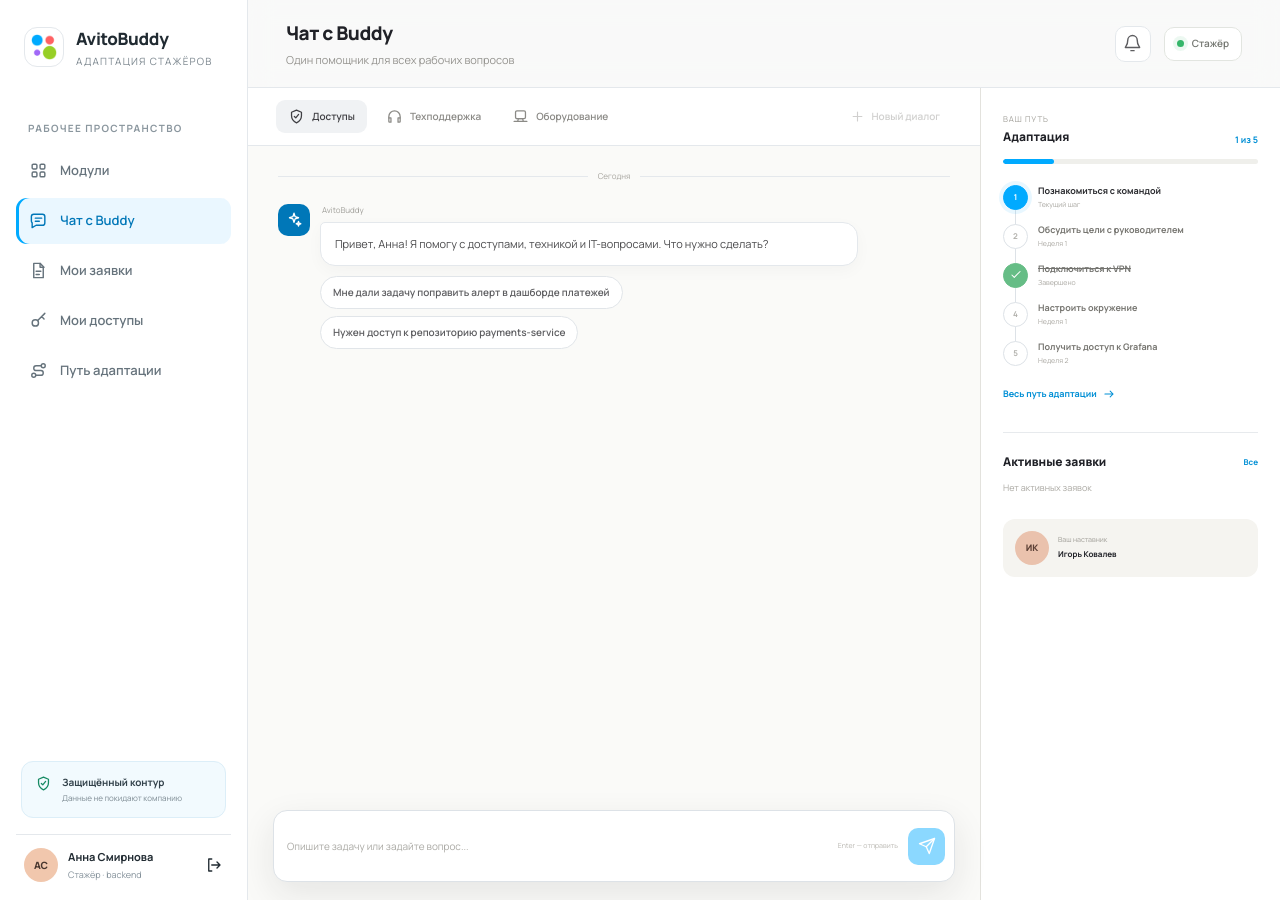
Test: стажер › чат: задача -> черновик -> подтверждение
Later steps or results of the test are not shown.
Type "Нужно поправить алерт в дашборде платежей" into the field with placeholder "Опишите задачу или задайте вопрос..." at (557, 846), box [287,838,828,854]
Then press Enter
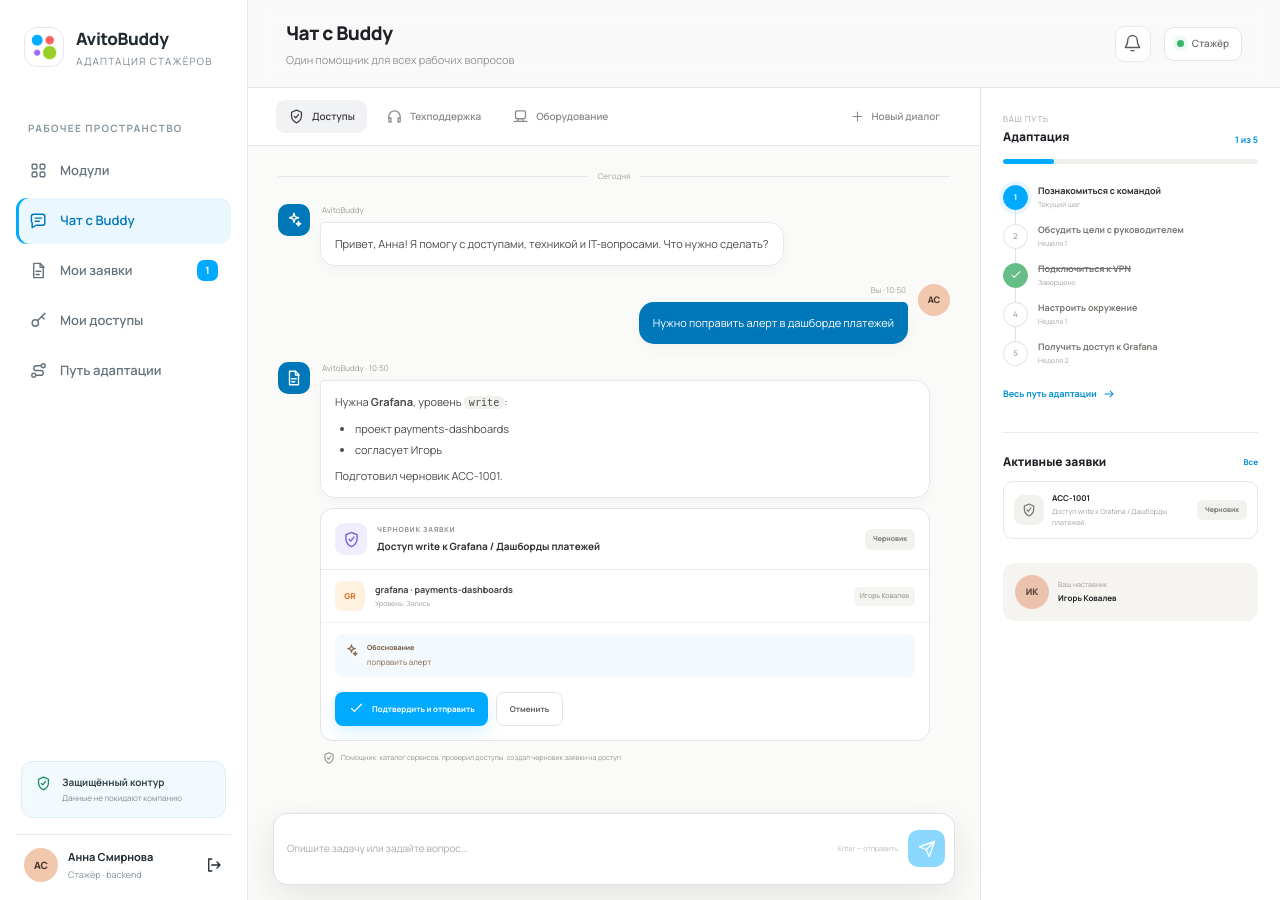
Expected: the text "Подготовил черновик ACC-1001." is shown, [335,468,503,483]
Expected: the text "Grafana" is shown, [371,394,413,409]
Expected: the text "write" is shown, [464,396,504,409]
